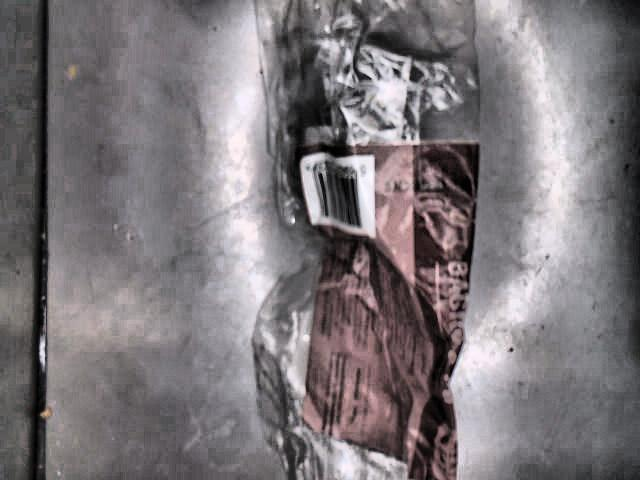Plastic: (252, 0, 483, 480)
